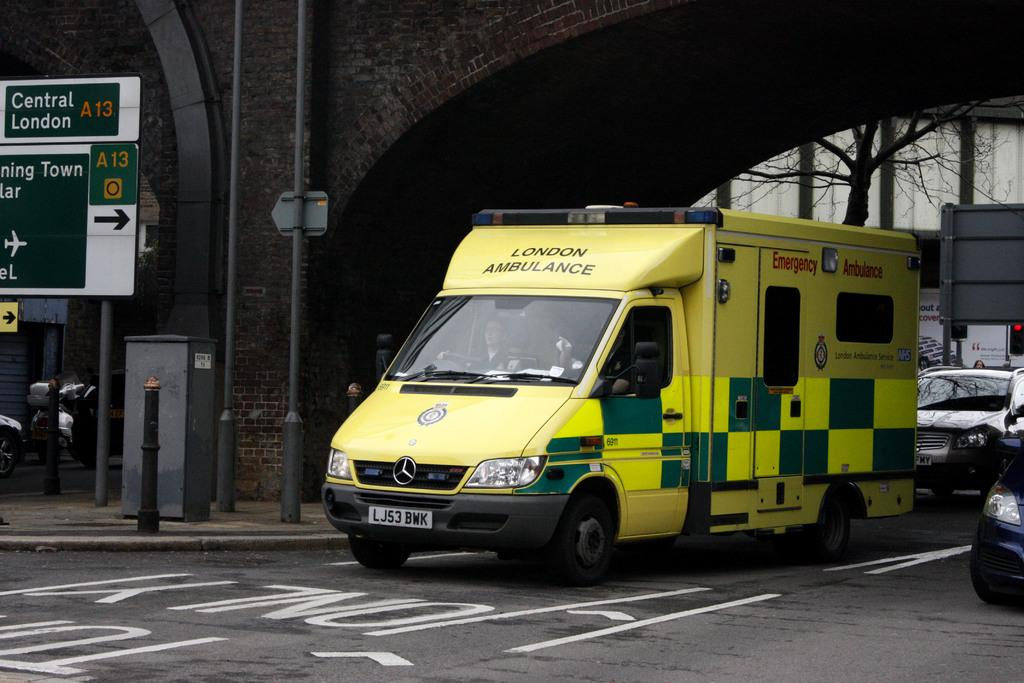Ambulance: (319, 198, 920, 579)
